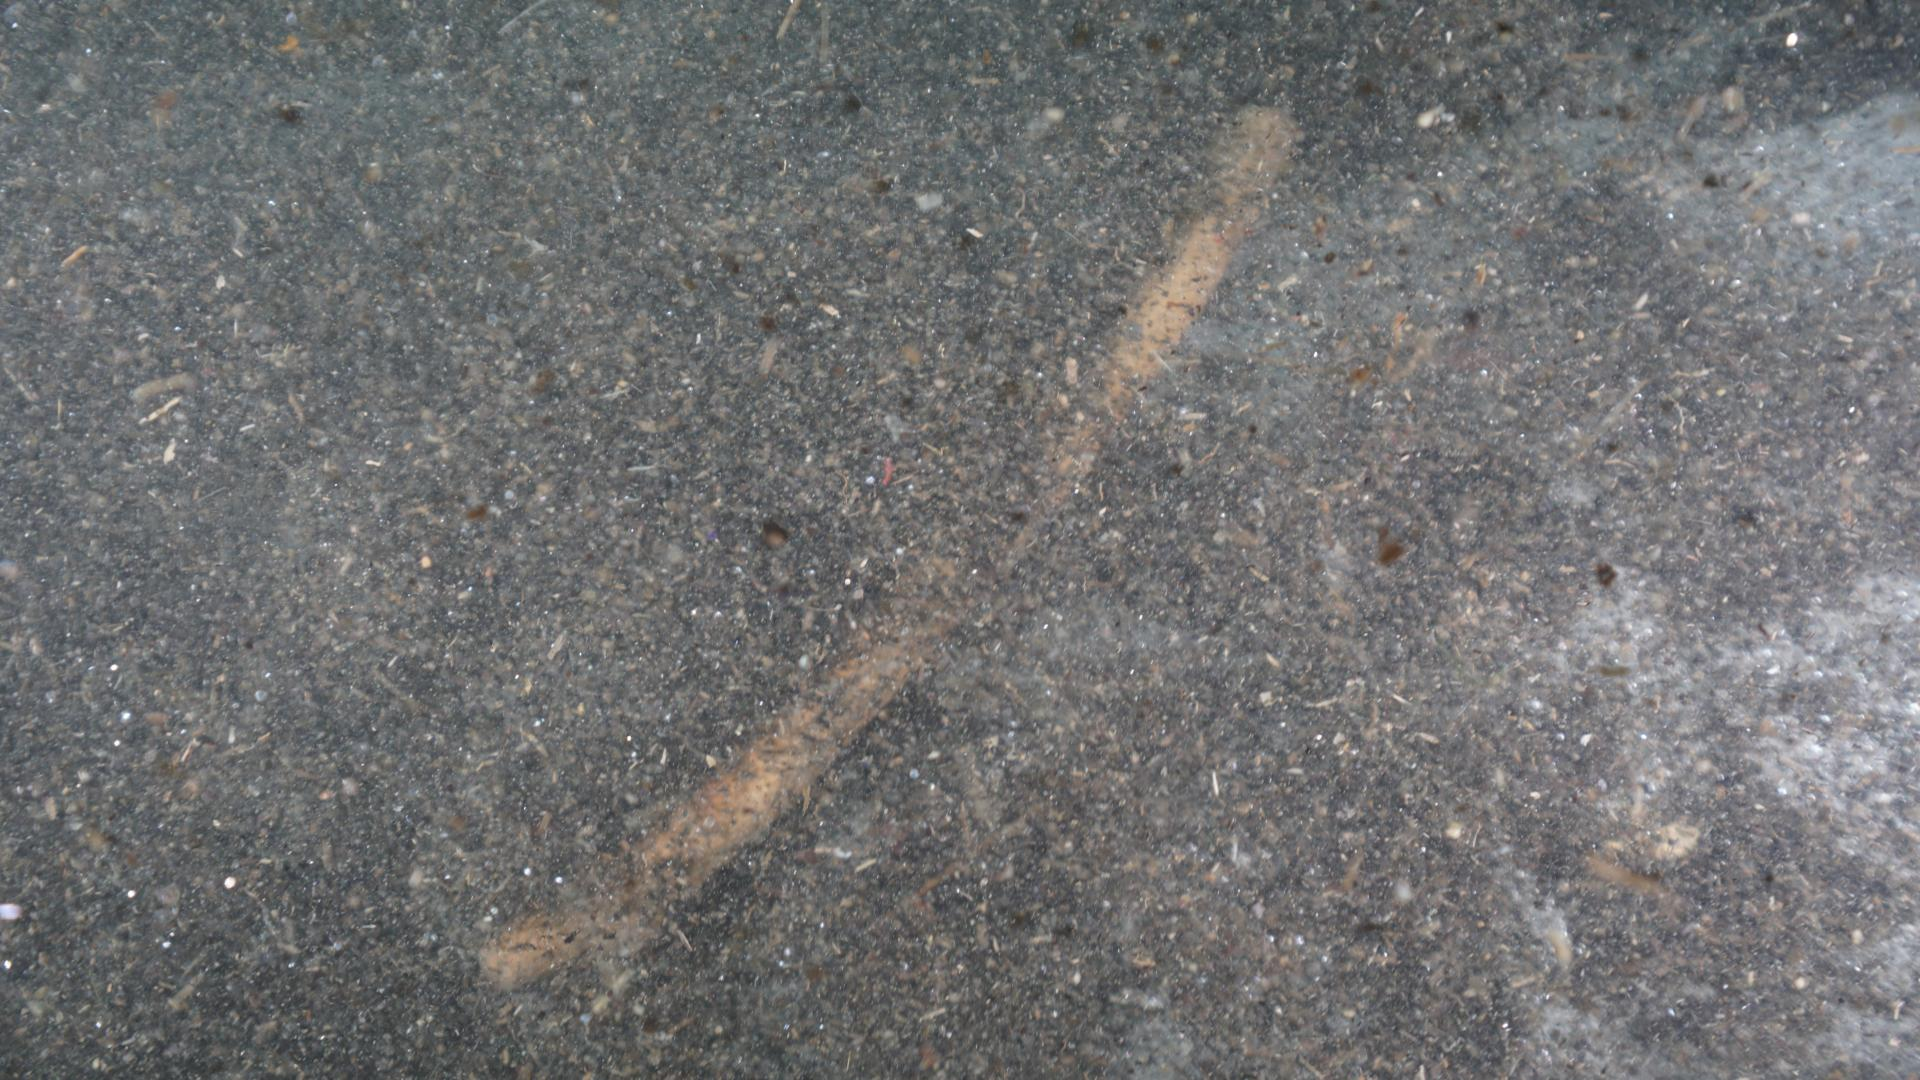wood: (468, 100, 1298, 1022)
